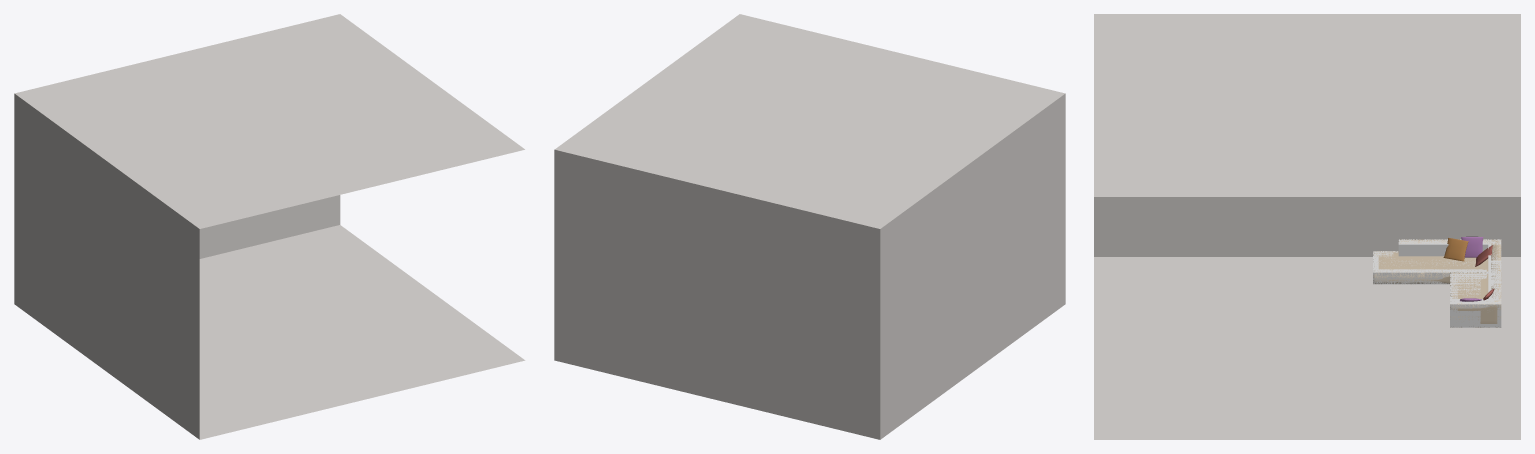
Rendered from sofa.glb.
3 views of the same model, side by side, from view 1: azimuth 30°, elevation 25°; view 2: azimuth 150°, elevation 25°; view 3: azimuth 270°, elevation 25° (orthographic). The views are drawn at different scales.
Parts seen in each view (by area): view 1: box; view 2: box; view 3: box, sofa_noSub, sofa, sofa_subModifier, pillow5.
Part boxes in pixels (x1,y1,x2,y2): box: (14,14,525,439); box: (554,14,1065,439); box: (1094,14,1520,439); sofa_noSub: (1373,239,1501,327); sofa: (1378,241,1497,323); sofa_subModifier: (1373,239,1501,327); pillow5: (1443,238,1468,261).
Size of the model in its own units: 16.9 by 10.46 by 16.66.
